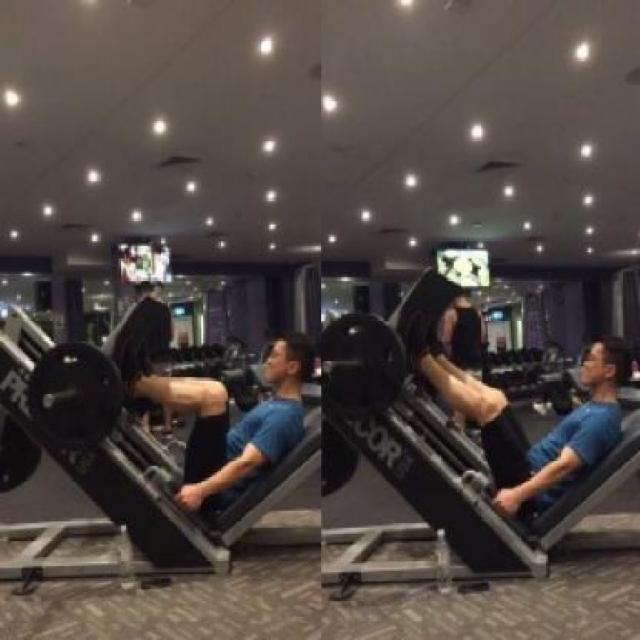leg press: (1, 224, 324, 640), (329, 226, 640, 640)
